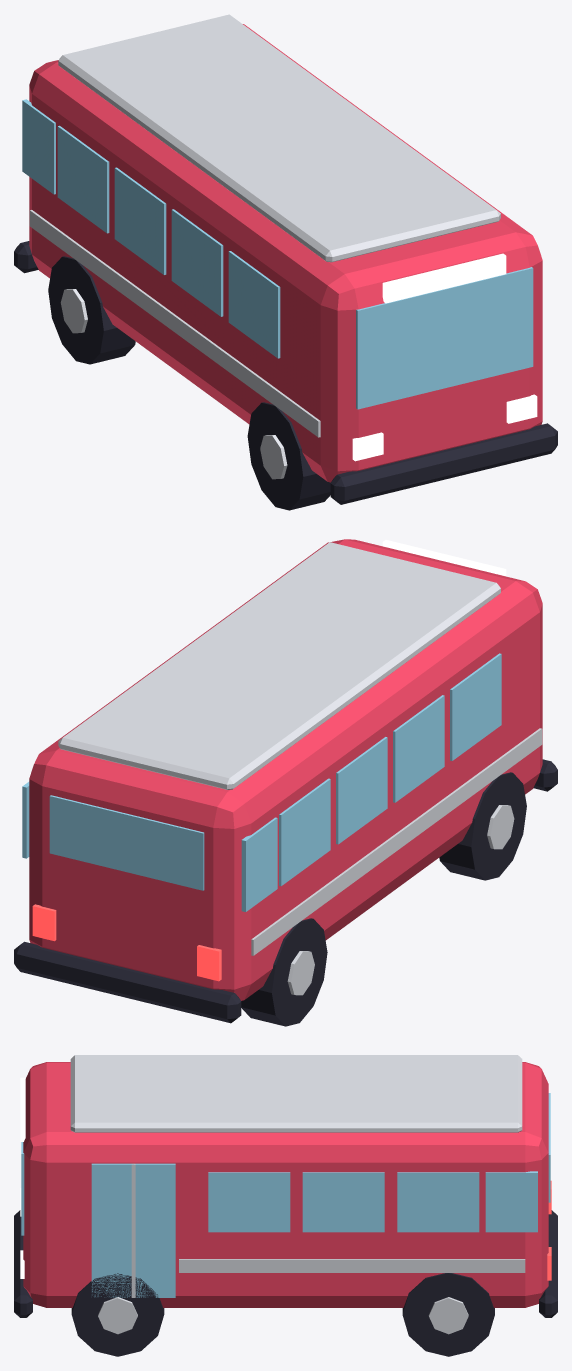
Rendered from bus.glb.
The picture shows the model from 3 angles, top to bottom: view 1: azimuth 30°, elevation 25°; view 2: azimuth 150°, elevation 25°; view 3: azimuth 270°, elevation 25°; orthographic projection. The views are drawn at different scales.
Parts seen in each view (by area): view 1: Bus; view 2: Bus; view 3: Bus.
Part boxes in pixels (bbox=[...]): Bus: bbox=[14, 14, 557, 510]; Bus: bbox=[14, 539, 557, 1026]; Bus: bbox=[14, 1055, 557, 1356].
Size of the model in its own units: 2.1 by 2.34 by 5.18.
